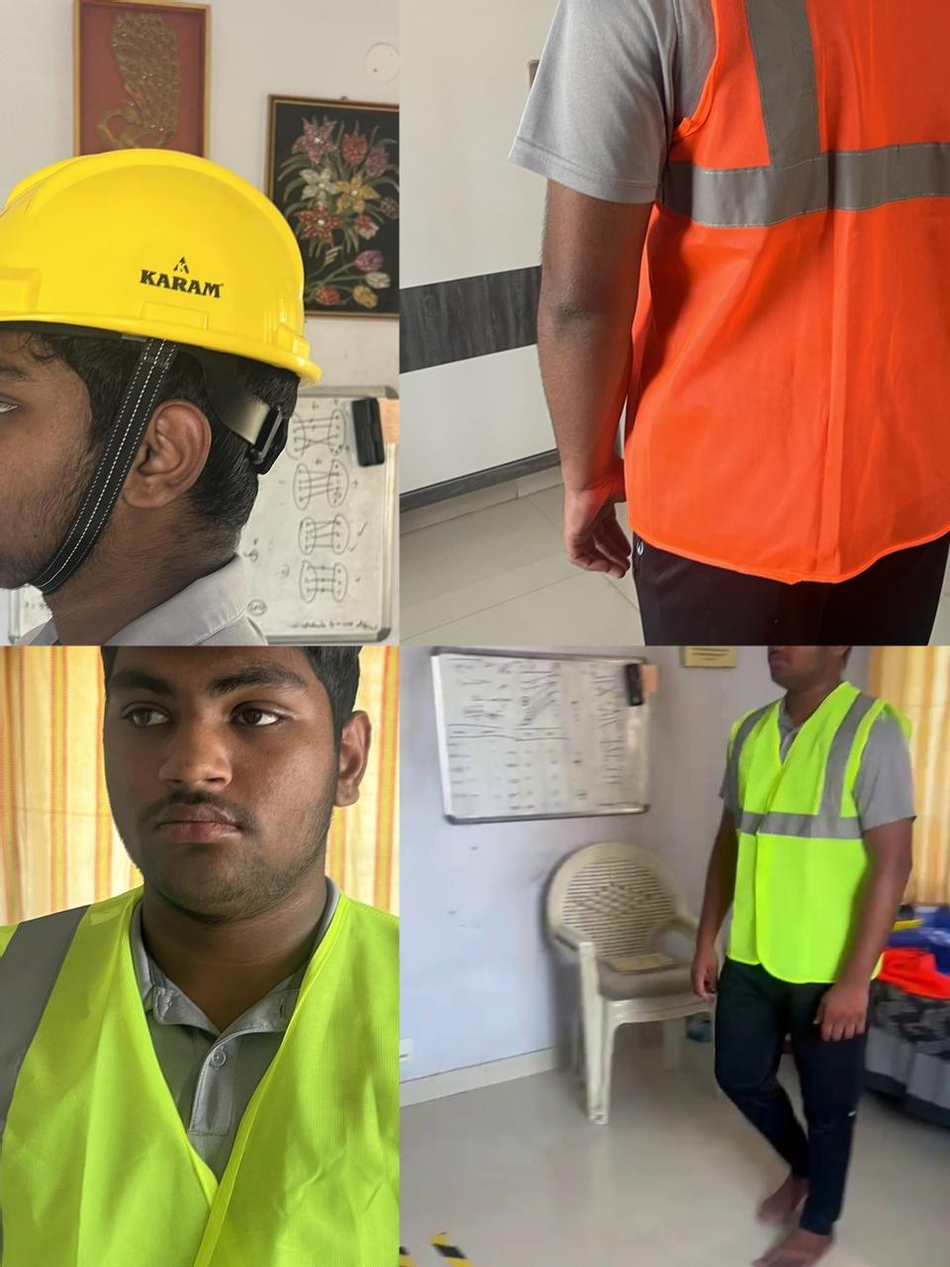Helmet: (0, 147, 322, 595)
No_Helmet: (84, 645, 371, 922), (764, 645, 861, 690)
Person: (508, 0, 950, 645), (0, 645, 399, 1267), (0, 147, 373, 645), (689, 645, 917, 1267)
Vest: (619, 0, 950, 586), (0, 875, 399, 1267), (723, 679, 912, 984)
